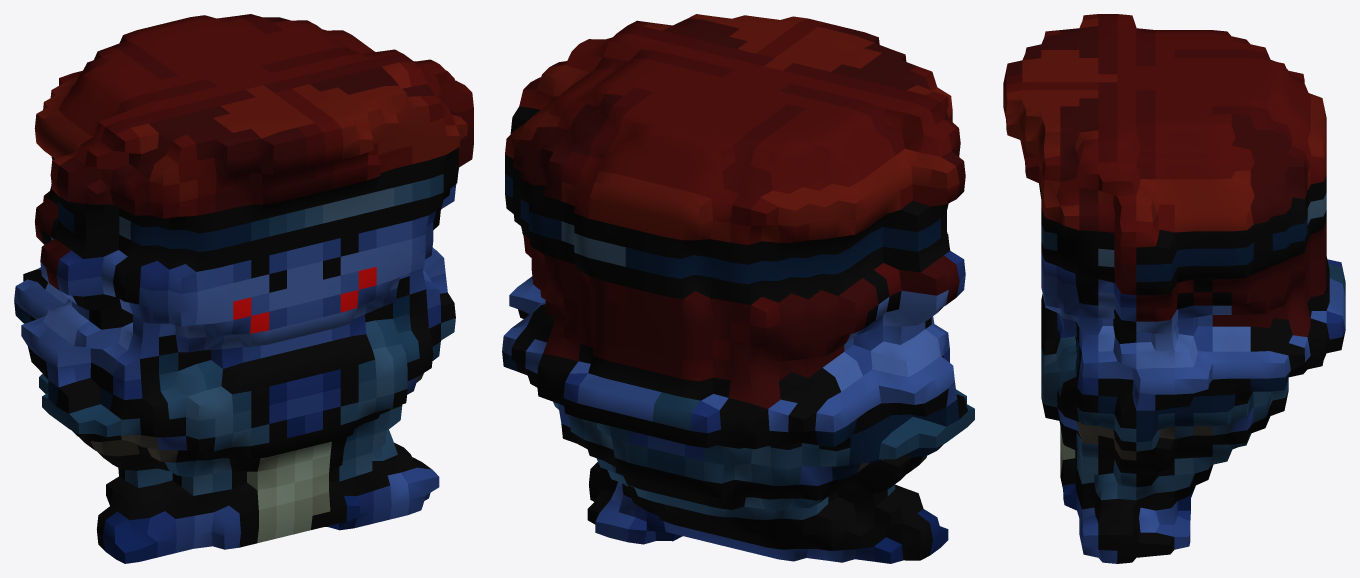
Rendered from Icon_724_01.obj.
3 renders of one model, left to right at view 1: azimuth 30°, elevation 25°; view 2: azimuth 150°, elevation 25°; view 3: azimuth 270°, elevation 25°, orthographic. The views are drawn at different scales.
Bounding box in the file's own units: 2.3 × 2.4 × 1.8.
Materials: 1 (1 with a texture image).
